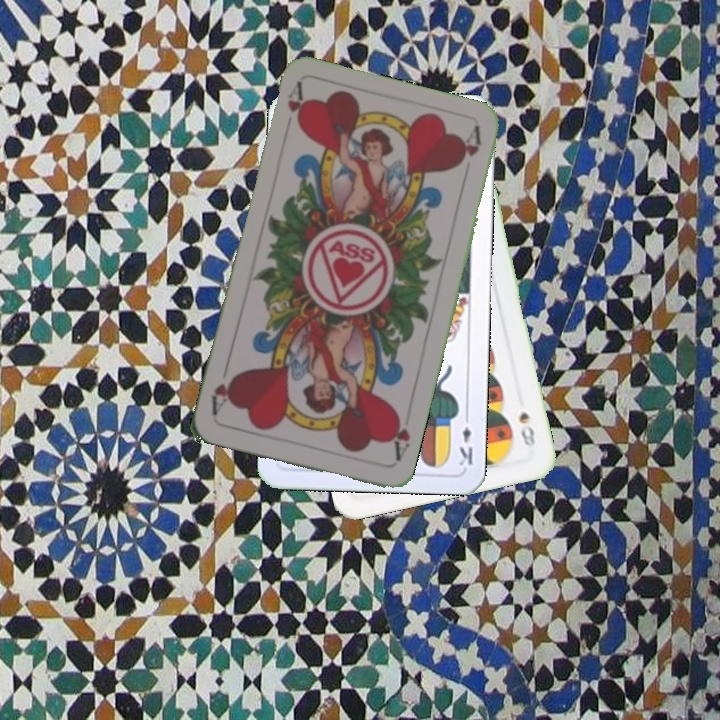EK: (455, 409, 476, 468)
HA: (280, 79, 310, 137), (385, 406, 413, 464)
S8: (515, 408, 538, 449)
